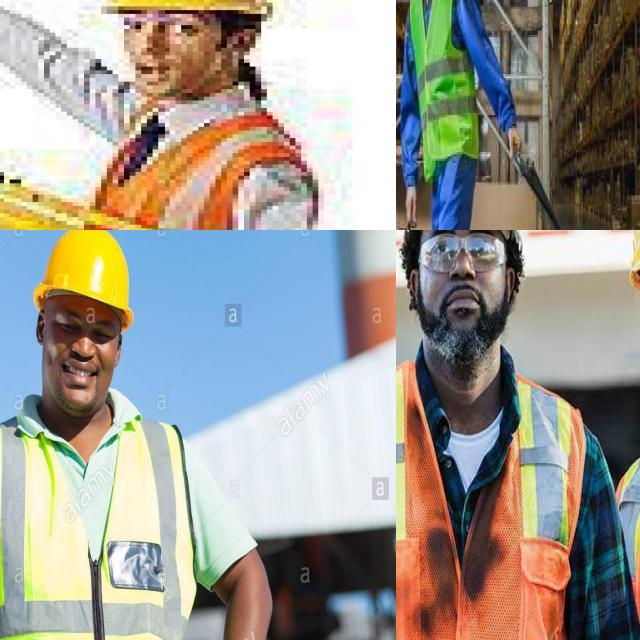No_Ear-Protection: (32, 306, 51, 350)
No_Glasses: (52, 307, 120, 348)
face_nomask: (411, 230, 505, 348), (107, 18, 244, 96), (37, 305, 122, 416)
glasses: (418, 231, 508, 280)
hand_noglove: (501, 100, 526, 174), (402, 178, 421, 230)
head_helmet: (29, 230, 134, 329)
person: (0, 230, 276, 640), (396, 230, 635, 640), (0, 0, 346, 230), (396, 0, 510, 230)
vest: (396, 366, 584, 640), (0, 395, 197, 640), (55, 107, 306, 230), (408, 0, 479, 171)
